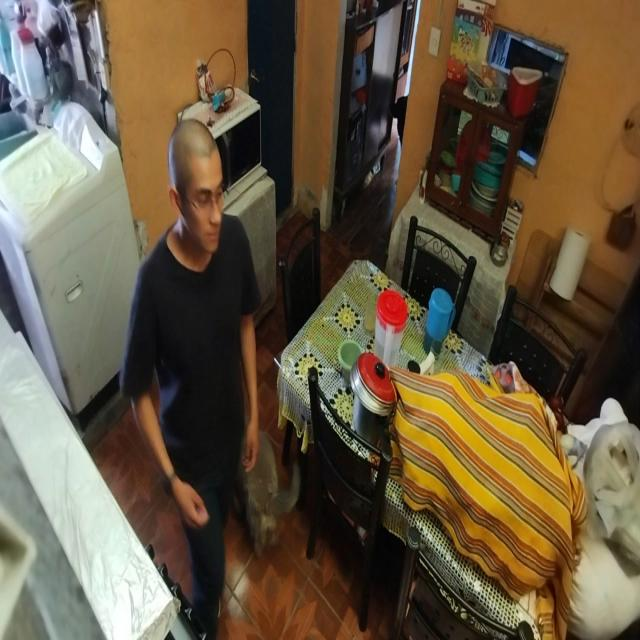adult: (124, 114, 263, 640)
